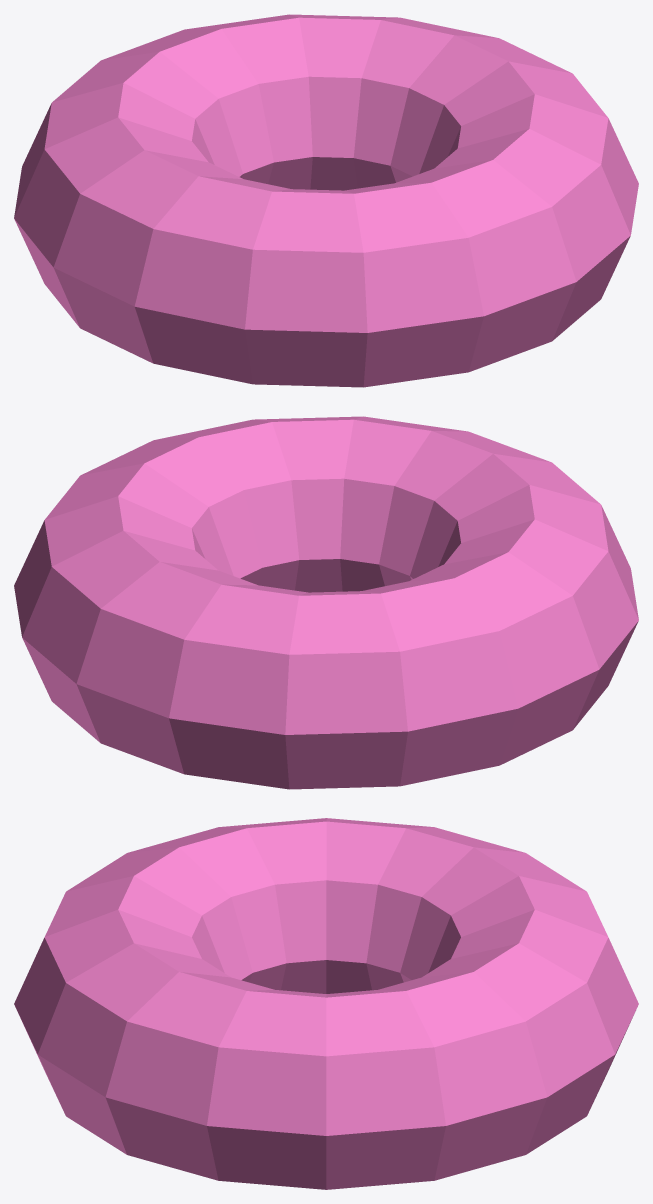
The model's file is TestModelWithCollider.glb.
3 renders of one model, top to bottom at view 1: azimuth 30°, elevation 25°; view 2: azimuth 150°, elevation 25°; view 3: azimuth 270°, elevation 25°, orthographic.
Parts seen in each view (by area): view 1: Donut; view 2: Donut; view 3: Donut.
Boxes of the visible parts, box(x1,y1,x2,y2) form: Donut: box(14, 14, 638, 387); Donut: box(14, 416, 638, 789); Donut: box(14, 818, 638, 1189).
Size of what is drawn, in the model's own units: 1.5 by 0.5 by 1.5.
Materials: 1 (1 with a texture image).
